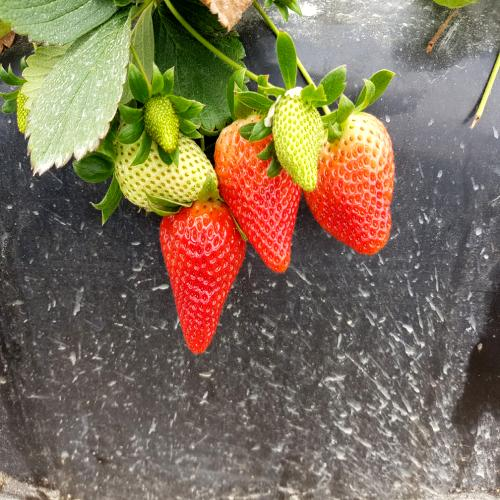partially-ripe: (293, 106, 401, 260)
ripe: (151, 191, 247, 366), (213, 110, 310, 280)
